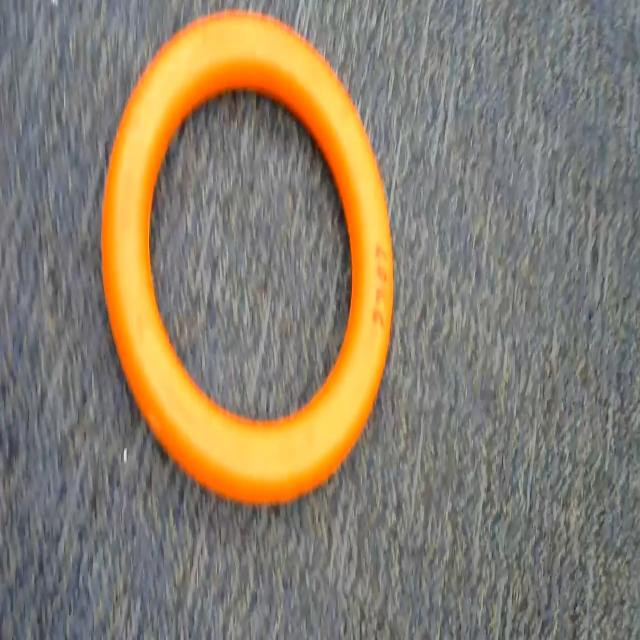note: (101, 7, 413, 516)
